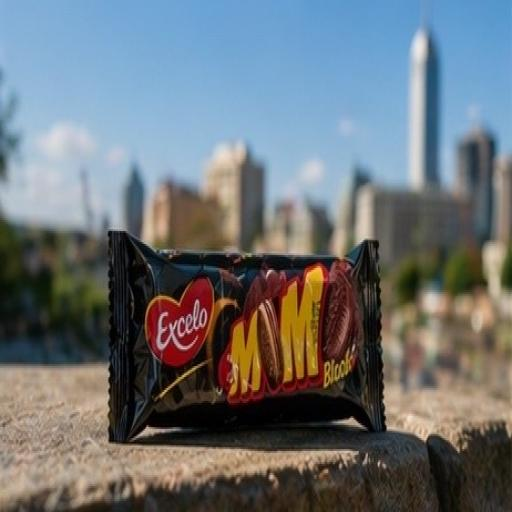MOMO: (72, 171, 413, 500)
